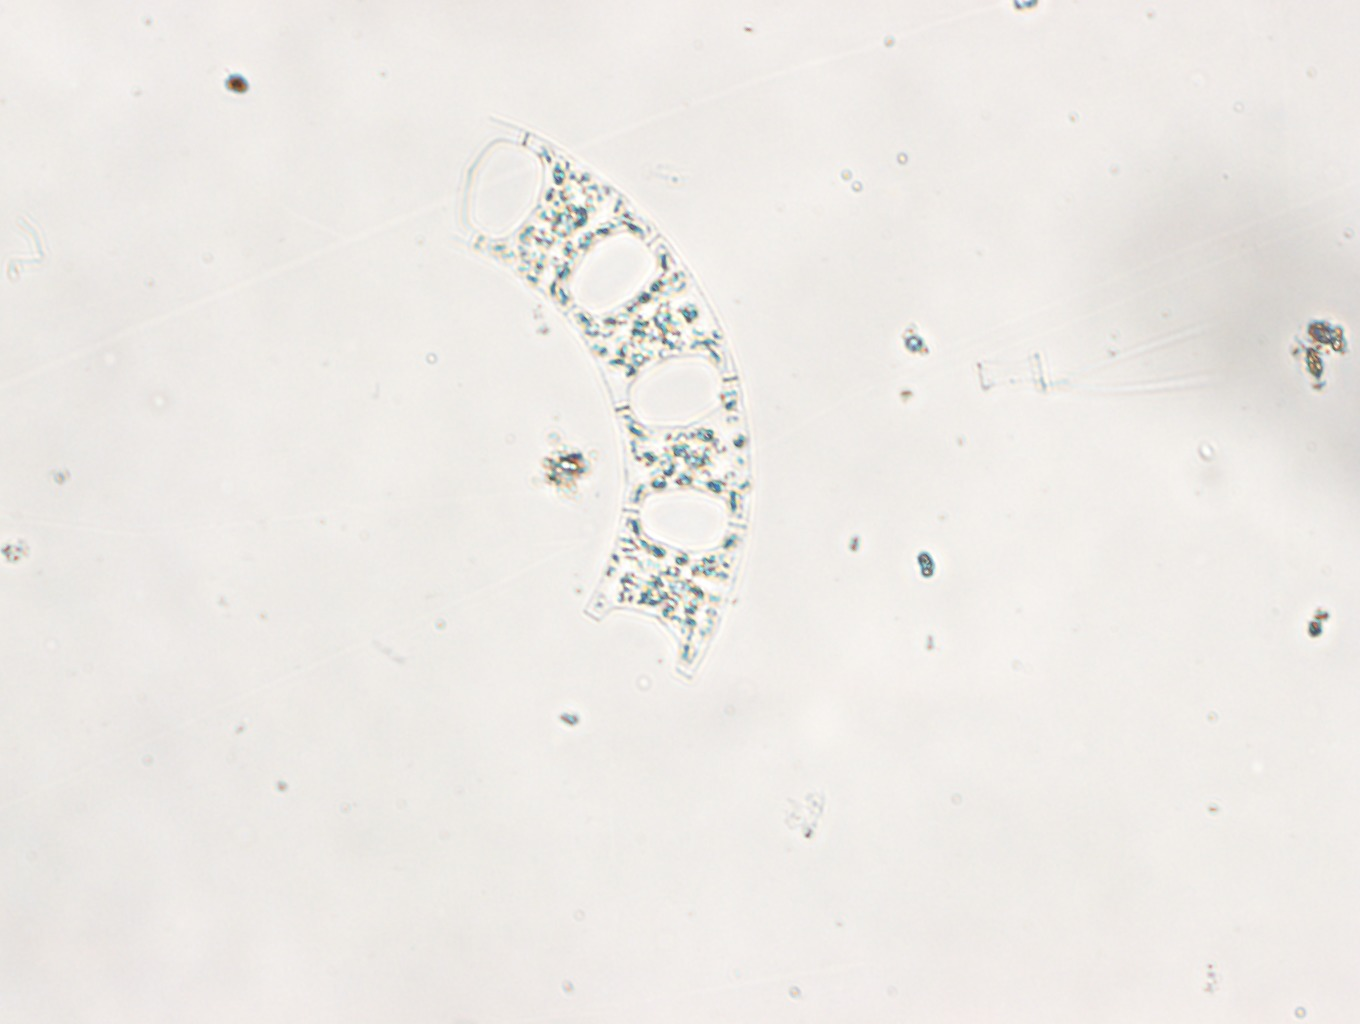eucampia: (443, 113, 751, 683)
